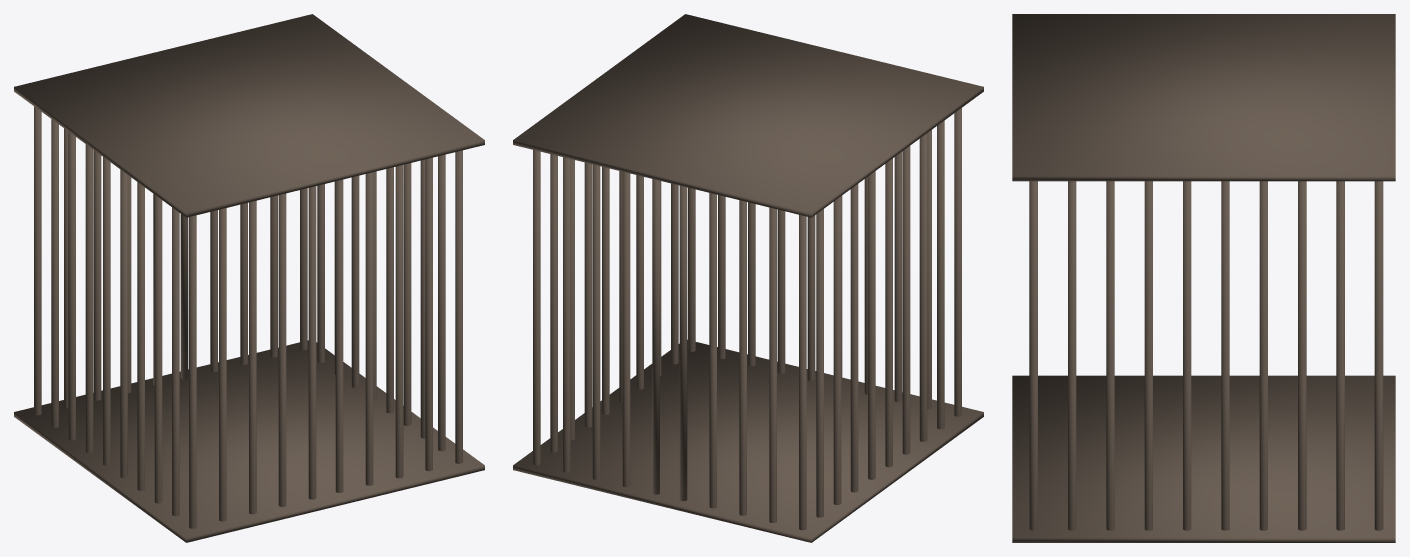
The model's file is cage.fbx.
The picture shows the model from 3 angles, left to right: view 1: azimuth 30°, elevation 25°; view 2: azimuth 150°, elevation 25°; view 3: azimuth 270°, elevation 25°; orthographic projection. The views are drawn at different scales.
Parts seen in each view (by area): view 1: Cube; view 2: Cube; view 3: Cube.
Part boxes in pixels (box(x1,y1,x2,y2)): Cube: box(14, 14, 484, 542); Cube: box(513, 14, 983, 542); Cube: box(1012, 14, 1395, 542).
Size of the model in its own units: 1000 by 1056 by 1000.
